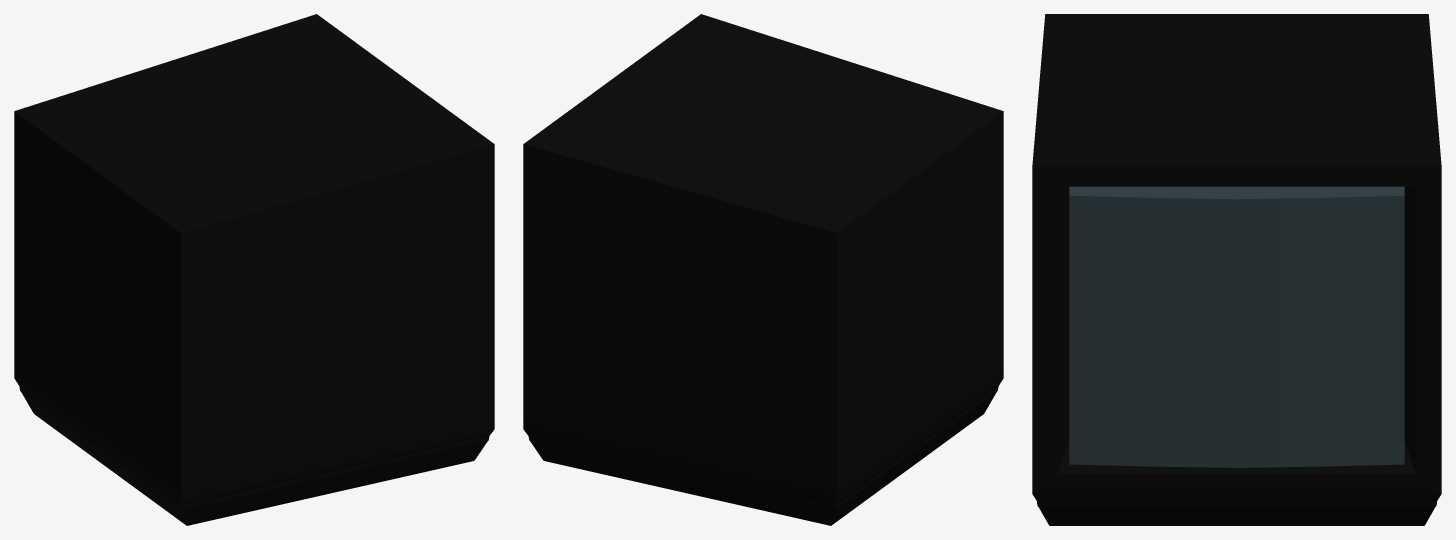
Rendered from Monitor_Large.fbx.
The picture shows the model from 3 angles, left to right: view 1: azimuth 30°, elevation 25°; view 2: azimuth 150°, elevation 25°; view 3: azimuth 270°, elevation 25°; orthographic projection. The views are drawn at different scales.
Parts seen in each view (by area): view 1: Moniter_Screen_Large; view 2: Moniter_Screen_Large; view 3: Moniter_Screen_Large.
Boxes of the visible parts, x1,y1,x2,y2 form: Moniter_Screen_Large: (14,14,494,525); Moniter_Screen_Large: (523,14,1003,525); Moniter_Screen_Large: (1032,14,1441,525).
Bounding box in the file's own units: 0.533 × 0.5171 × 0.5227.
Materials: 1 (1 with a texture image).
